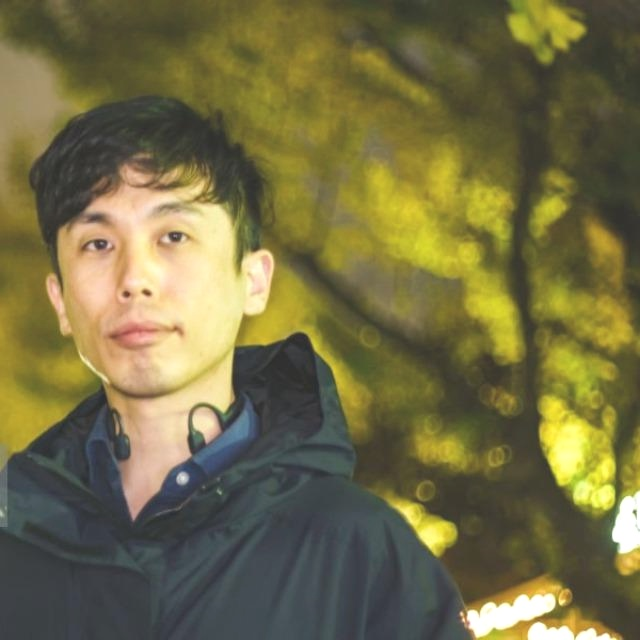Sin_Casco_Mascarrilla: (26, 96, 275, 395)
